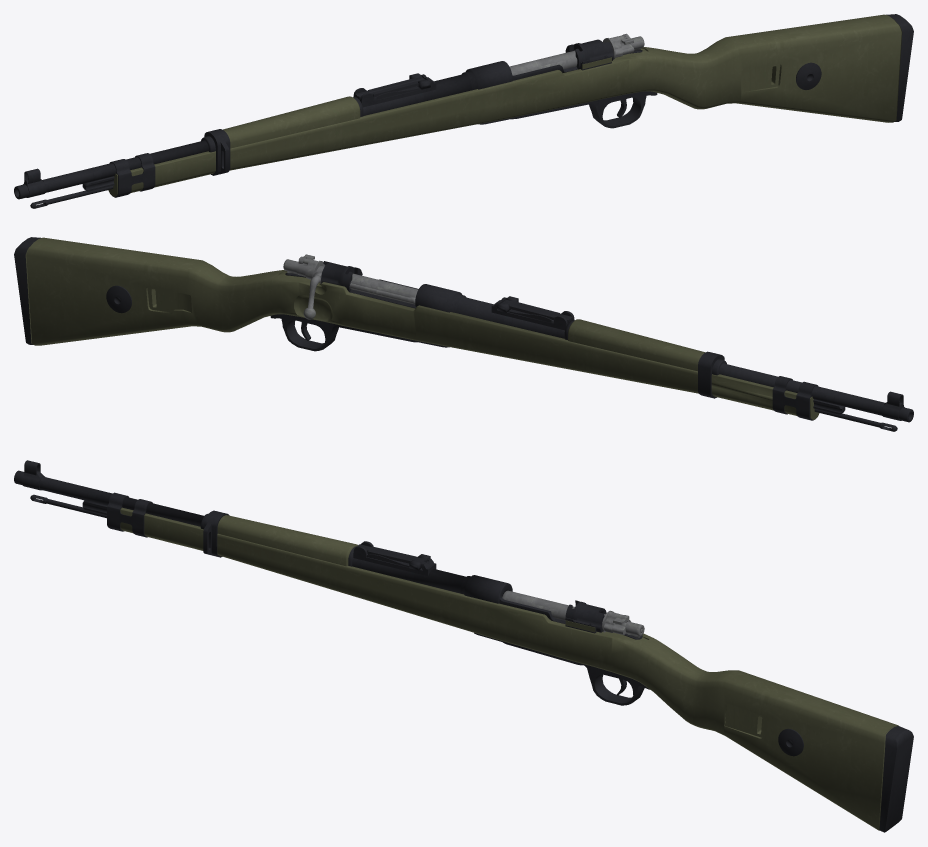
The model's file is ssg69.glb.
3 views of the same model, one above another, from view 1: azimuth 30°, elevation 25°; view 2: azimuth 150°, elevation 25°; view 3: azimuth 330°, elevation 25° (orthographic).
Visible parts, largest first — view 1: ssg69; view 2: ssg69; view 3: ssg69.
Part boxes in pixels (box(x1,y1,x2,y2)): ssg69: box(14, 14, 913, 208); ssg69: box(14, 237, 913, 431); ssg69: box(14, 460, 913, 832).
Size of the model in its own units: 1.11 by 0.1893 by 0.0606.
3 materials, 3 textured.
